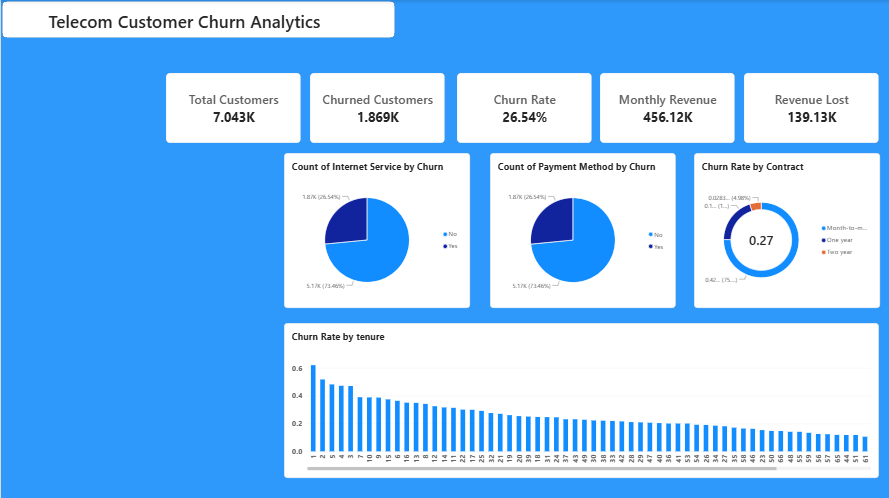

The page's visual inventory and layout, read from the dashboard file:
{"tool":"powerbi","page":{"name":"Telecom Customer Churn & Retention Dashboard","canvas":[1920,1080],"ordinal":0},"visuals":[{"type":"shape","box":[0,0,853.2,84.2],"z":0},{"type":"textbox","box":[36.7,19.4,719.3,64.8],"z":1000},{"type":"cardVisual","fields":{"Data":["vw_ChurnAnalysis.Total Customers"]},"box":[356.4,157.7,291,151.2],"z":2000},{"type":"cardVisual","fields":{"Data":["vw_ChurnAnalysis.Churned Customers"]},"box":[667.4,157.7,291.6,151.2],"z":3000},{"type":"cardVisual","fields":{"Data":["vw_ChurnAnalysis.Churn Rate"]},"box":[985,157.7,291,151],"z":4000},{"type":"cardVisual","fields":{"Data":["vw_ChurnAnalysis.Total Monthly Revenue"]},"box":[1293.8,157.7,291,151.2],"z":5000},{"type":"cardVisual","fields":{"Data":["vw_ChurnAnalysis.Revenue Lost"]},"box":[1604.9,157.7,291,151.2],"z":6000},{"type":"columnChart","fields":{"Category":["vw_ChurnAnalysis.tenure"],"Y":["vw_ChurnAnalysis.Churn Rate"]},"box":[612.1,698.4,1285.1,335.2],"z":8000},{"type":"donutChart","fields":{"Category":["vw_ChurnAnalysis.Contract"],"Y":["vw_ChurnAnalysis.Churn Rate"]},"box":[1495.9,330.2,401.8,334.8],"z":10001},{"type":"pieChart","fields":{"Category":["vw_ChurnAnalysis.Churn"],"Y":["CountNonNull(vw_ChurnAnalysis.Internet Service)"]},"box":[612.1,330.2,401.8,334.8],"z":10002},{"type":"pieChart","fields":{"Category":["vw_ChurnAnalysis.Churn"],"Y":["CountNonNull(vw_ChurnAnalysis.Payment Method)"]},"box":[1056.5,330.2,401.3,335.2],"z":10003}]}

Visuals, with their boxes in screenshot pixels (x1, y1, x2, y2), scaled from the page's 1920x1080 canvas onto the 889x498 screenshot:
shape: [0,0,395,39]
textbox: [17,9,350,39]
cardVisual - vw_ChurnAnalysis.Total Customers: [165,73,300,142]
cardVisual - vw_ChurnAnalysis.Churned Customers: [309,73,444,142]
cardVisual - vw_ChurnAnalysis.Churn Rate: [456,73,591,142]
cardVisual - vw_ChurnAnalysis.Total Monthly Revenue: [599,73,734,142]
cardVisual - vw_ChurnAnalysis.Revenue Lost: [743,73,878,142]
columnChart - vw_ChurnAnalysis.tenure x vw_ChurnAnalysis.Churn Rate: [283,322,878,477]
donutChart - vw_ChurnAnalysis.Contract x vw_ChurnAnalysis.Churn Rate: [693,152,879,307]
pieChart - vw_ChurnAnalysis.Churn x CountNonNull(vw_ChurnAnalysis.Internet Service): [283,152,469,307]
pieChart - vw_ChurnAnalysis.Churn x CountNonNull(vw_ChurnAnalysis.Payment Method): [489,152,675,307]
